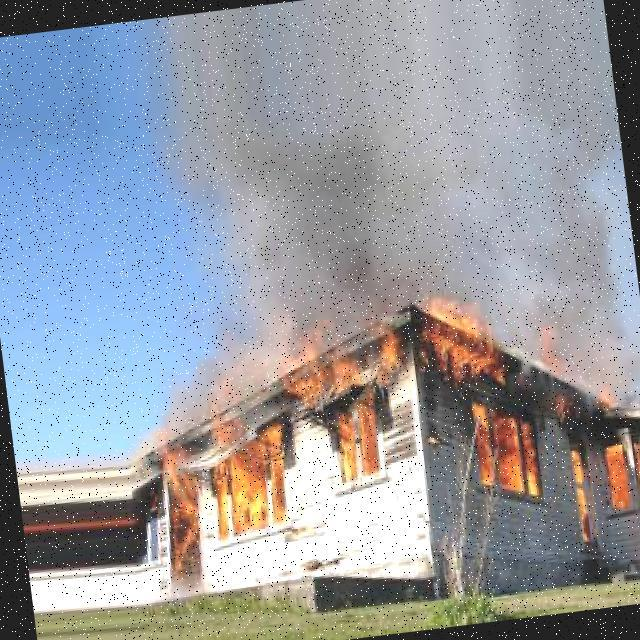Fire: (193, 392, 293, 553), (279, 302, 411, 418), (412, 287, 519, 392), (145, 431, 209, 587), (466, 395, 542, 508), (595, 424, 640, 524), (332, 410, 386, 487), (568, 447, 596, 550), (532, 317, 566, 384), (545, 391, 583, 429)
Smoke: (155, 171, 638, 417)
